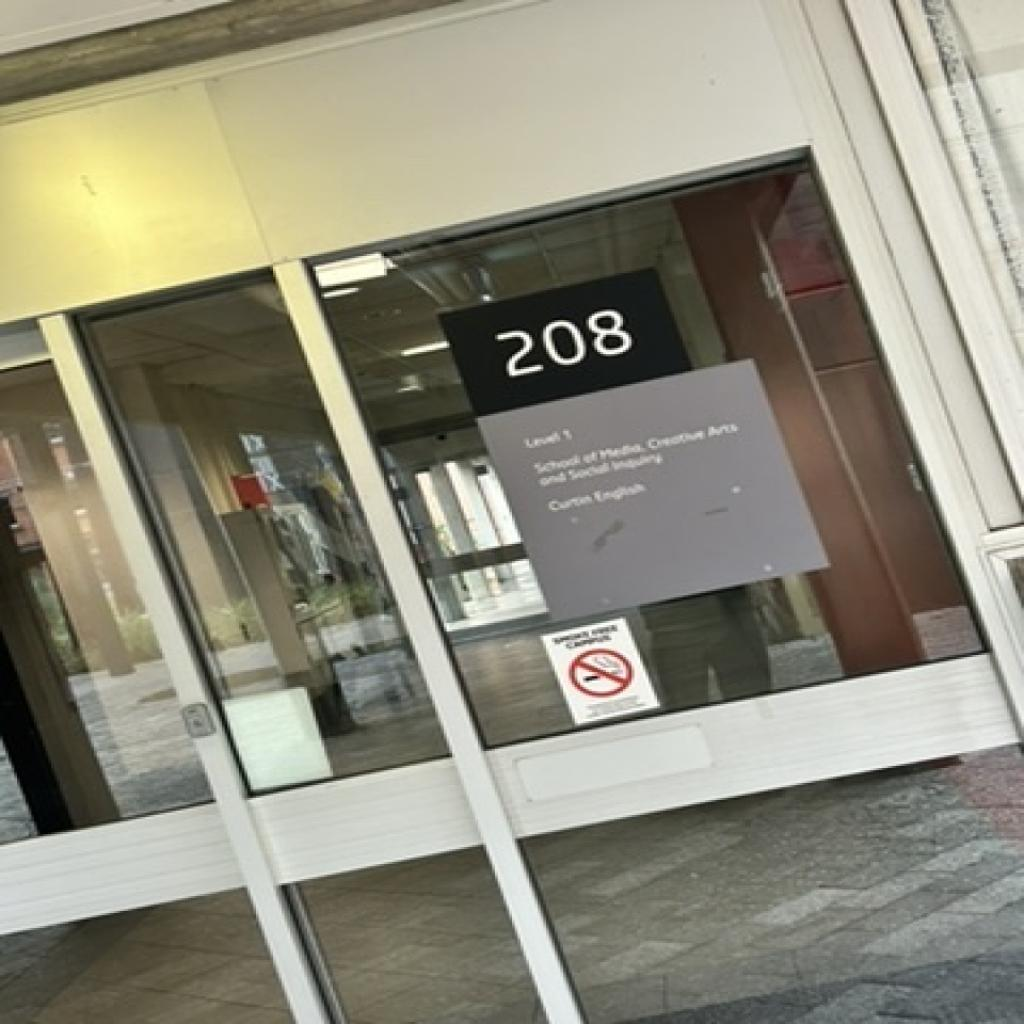BuildingCodes: (490, 304, 640, 384)
